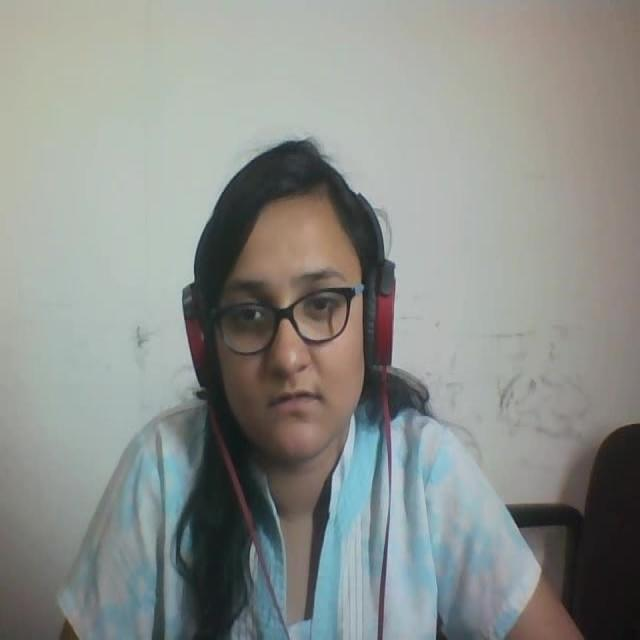Bored: (160, 119, 413, 473)
